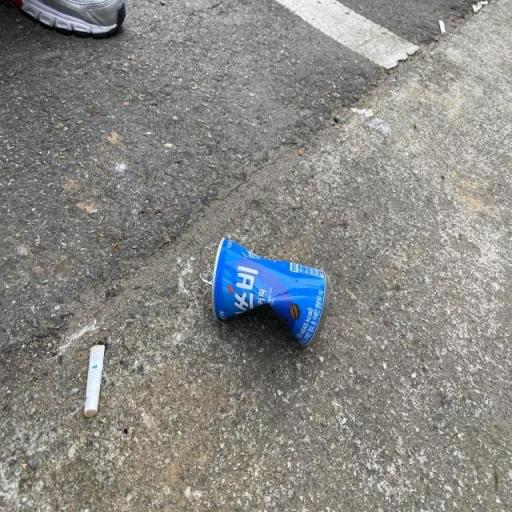metal: (172, 189, 356, 388)
